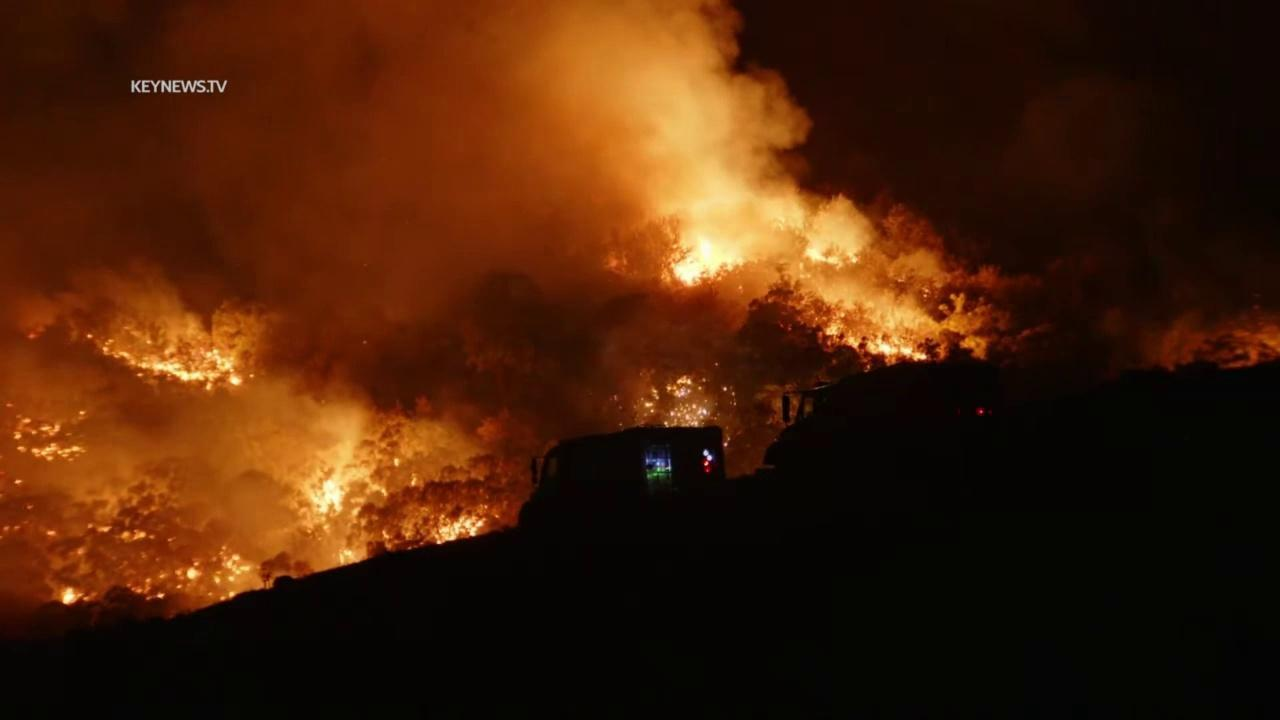fire: (78, 325, 245, 393), (123, 545, 261, 604), (668, 235, 746, 289), (10, 413, 93, 463), (828, 330, 927, 361), (428, 509, 494, 549), (803, 242, 858, 268), (319, 474, 346, 518), (334, 540, 365, 569), (56, 581, 83, 606), (25, 329, 38, 344), (393, 455, 403, 472)
smoke: (0, 0, 1168, 642)
